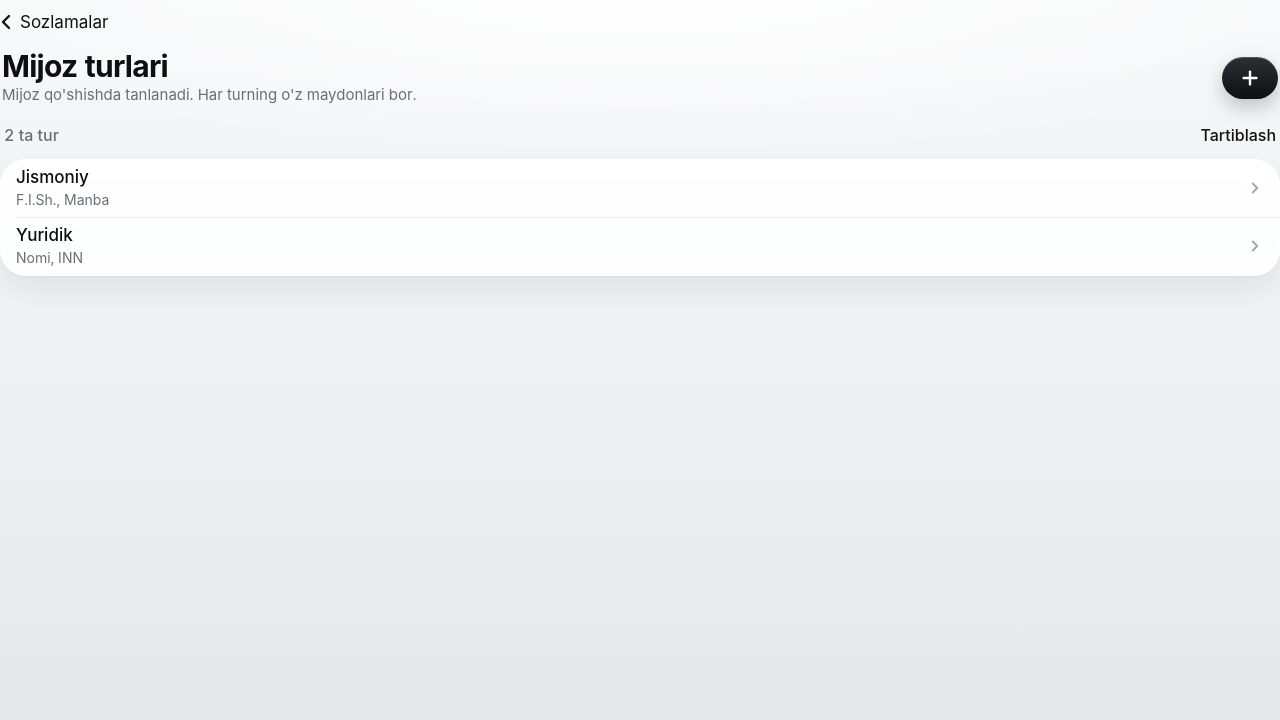
Test: a customer type is added from the plus's sheet and joins the list, with no field yet; a refusal stays in the sheet
Click the button named "Tur qo'shish". click: (1250, 78)
box: [1222,57,1278,99]
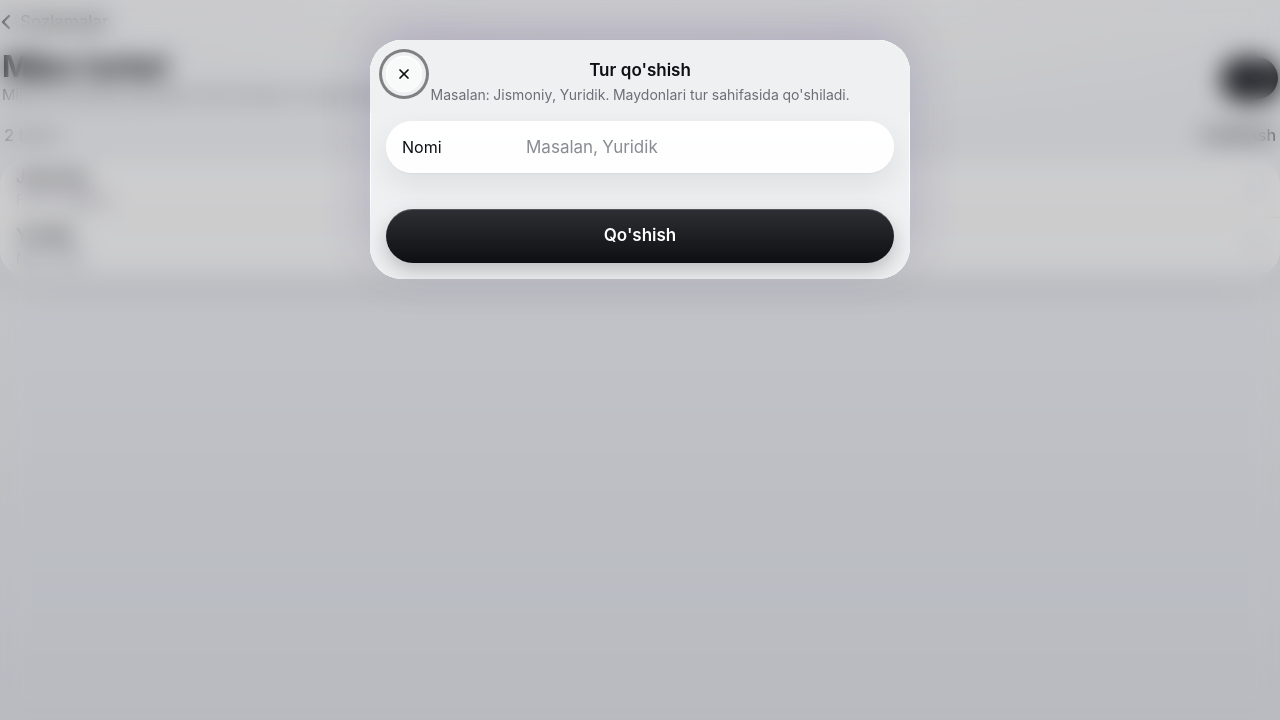
Type "jismoniy" into the field labelled "Nomi". click: (702, 146)
box: [526,124,878,168]
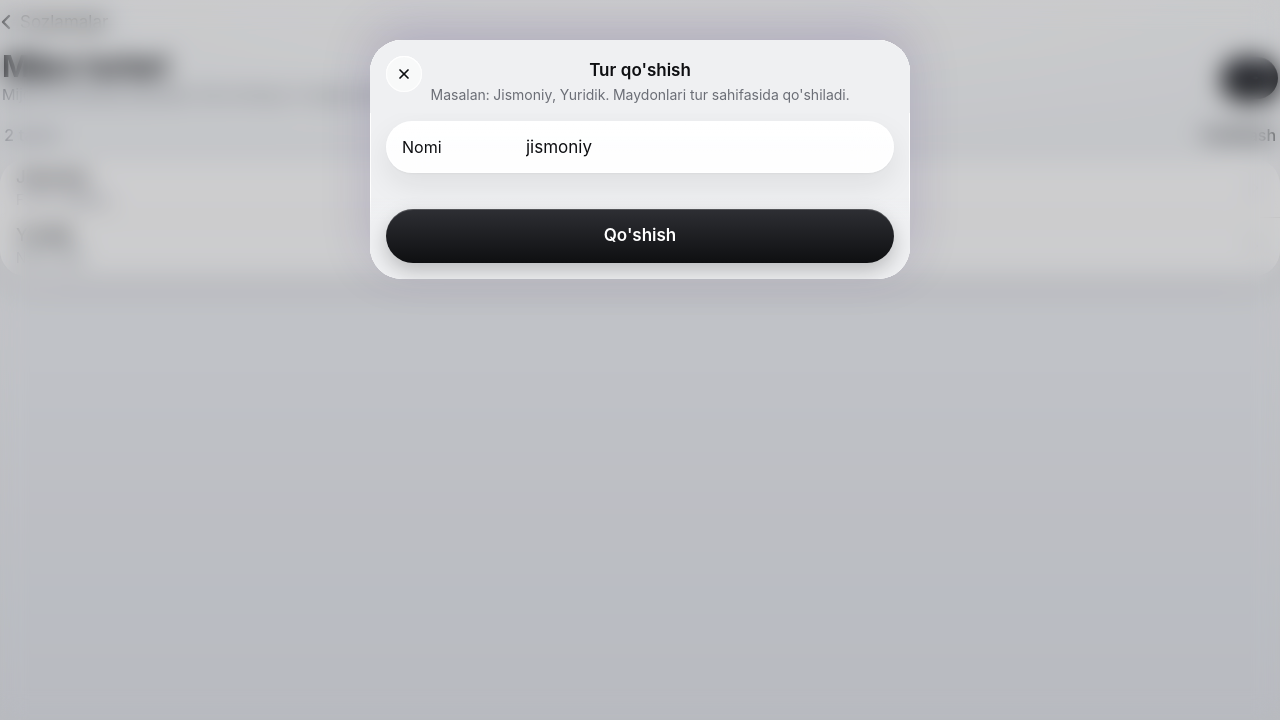
Click the button "Qo'shish". click: (640, 236)
box: [386,208,894,262]
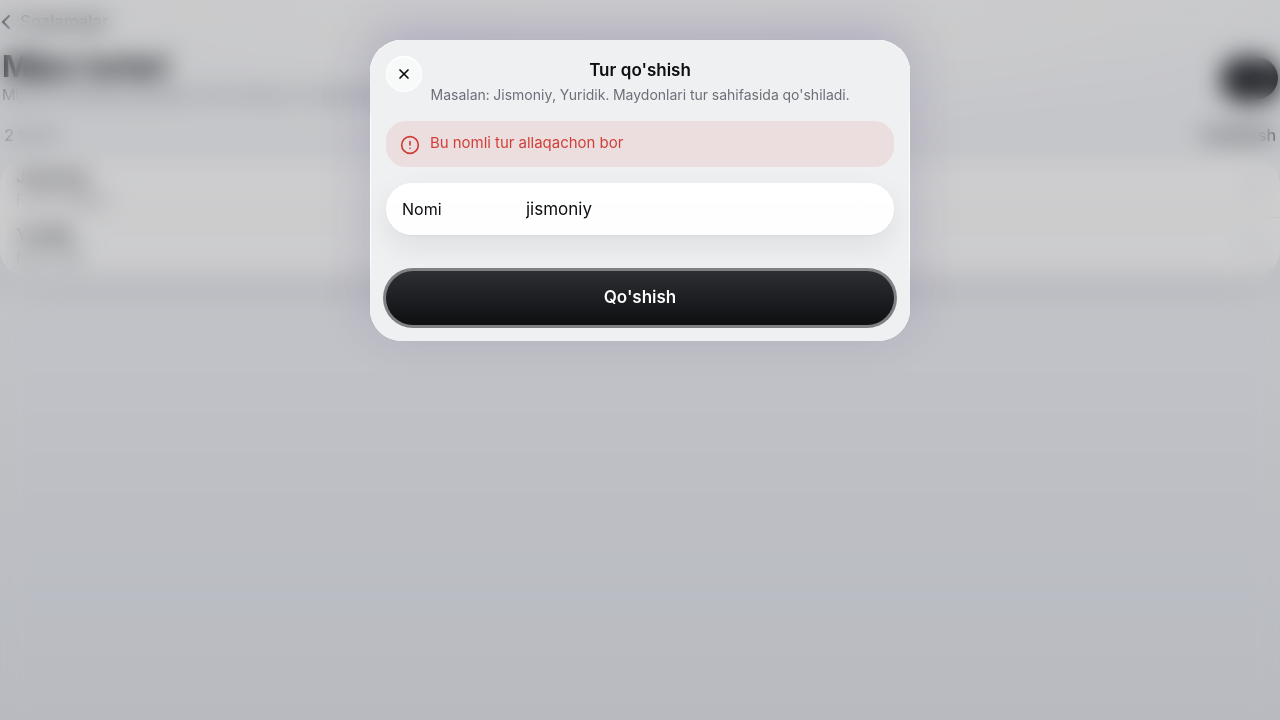
expect the text "Bu nomli tur allaqachon bor" is shown: met, box [430,132,623,152]
Replace the text in the field labelled "Nomi" with "Hamkor". click: (702, 208)
box: [526,186,878,230]
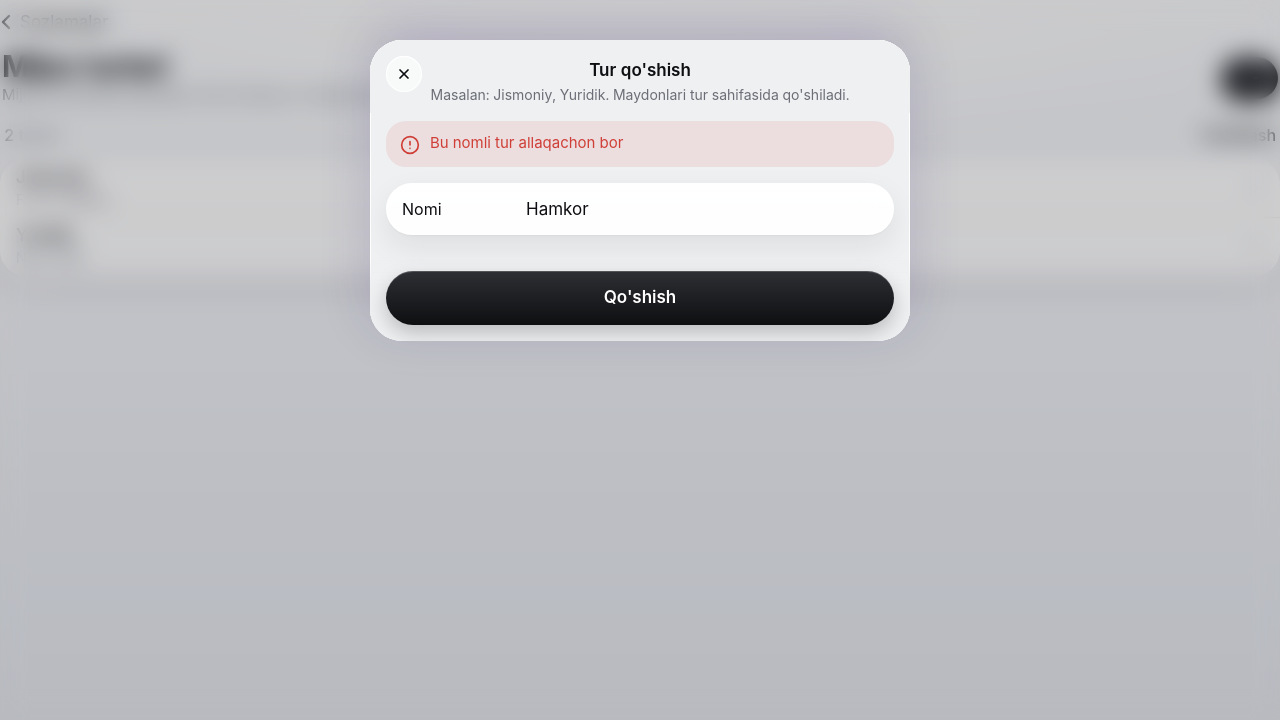
Click the button "Qo'shish". click: (640, 298)
box: [386,270,894,324]
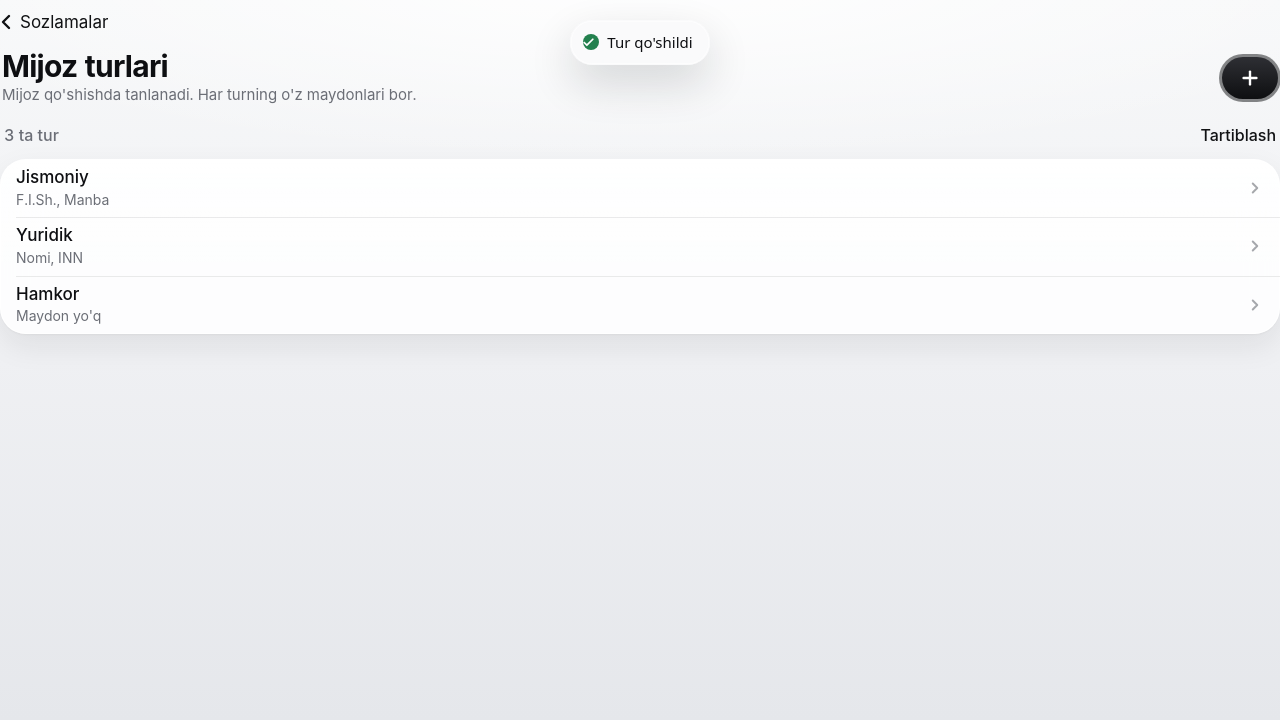
expect the dialog is gone: met
expect the text "Tur qo'shildi" is shown: met, box [607,31,693,54]
